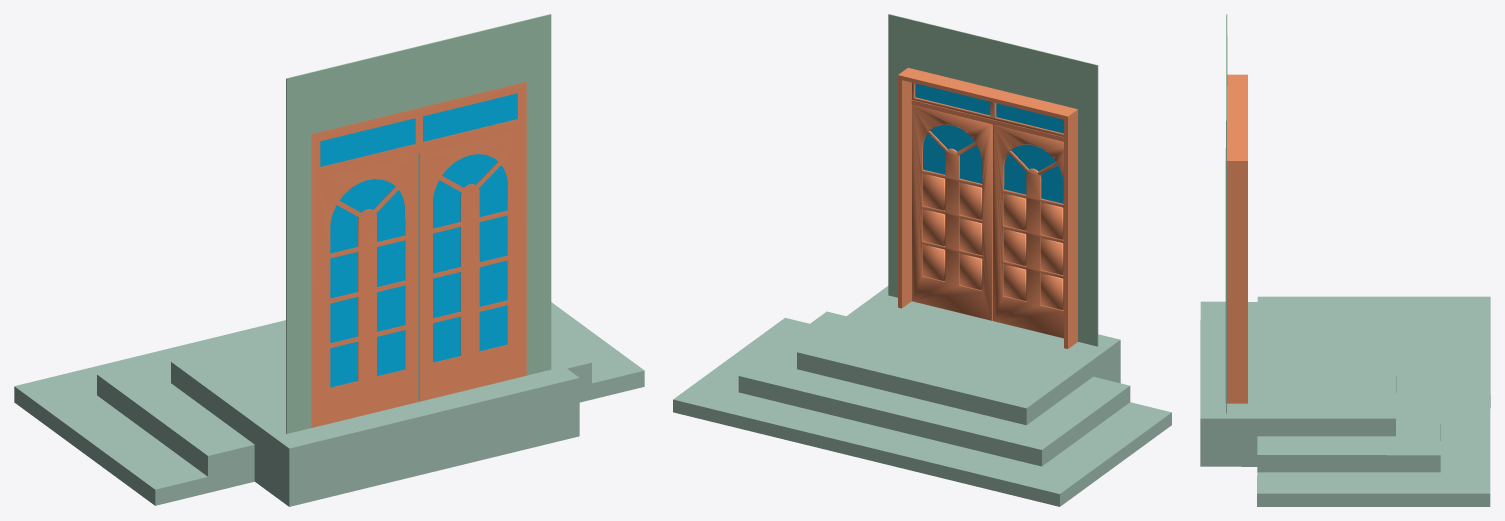
The model's file is door02.FBX.
3 views of the same model, side by side, from view 1: azimuth 30°, elevation 25°; view 2: azimuth 150°, elevation 25°; view 3: azimuth 270°, elevation 25° (orthographic). The views are drawn at different scales.
Visible parts, largest first — view 1: Rectangle05_网格.003, Rectangle10_网格, Line02_网格.002, Rectangle11_网格.001; view 2: Rectangle05_网格.003, Rectangle10_网格, Line02_网格.002, Rectangle11_网格.001; view 3: Rectangle05_网格.003, Rectangle10_网格, Line02_网格.002.
Part boxes in pixels (bbox=[...]): Rectangle05_网格.003: bbox=[14, 302, 644, 506]; Rectangle10_网格: bbox=[311, 82, 526, 427]; Line02_网格.002: bbox=[286, 14, 551, 433]; Rectangle11_网格.001: bbox=[320, 93, 517, 401]; Rectangle05_网格.003: bbox=[673, 286, 1171, 506]; Rectangle10_网格: bbox=[898, 67, 1077, 348]; Line02_网格.002: bbox=[888, 14, 1098, 346]; Rectangle11_网格.001: bbox=[915, 83, 1063, 320]; Rectangle05_网格.003: bbox=[1200, 296, 1490, 506]; Rectangle10_网格: bbox=[1225, 74, 1247, 403]; Line02_网格.002: bbox=[1226, 14, 1227, 413].
Bounding box in the file's own units: 125 × 101 × 77.95.
